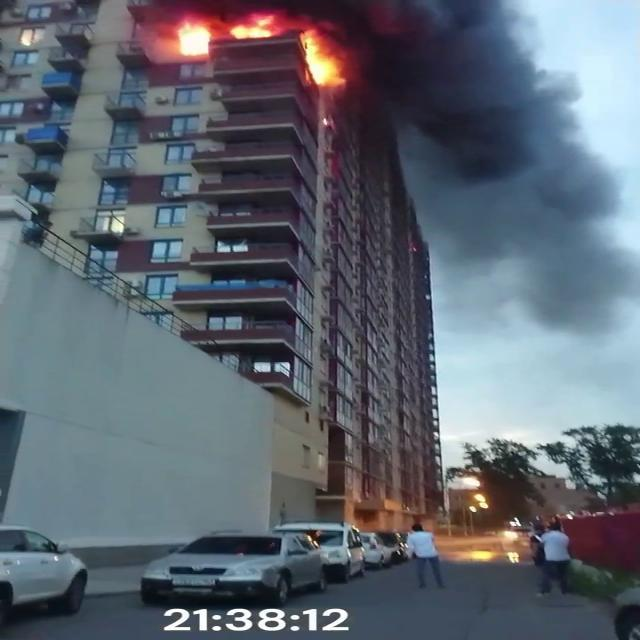Fire: (165, 8, 285, 58), (299, 26, 345, 90)
Smoke: (360, 1, 636, 338)
